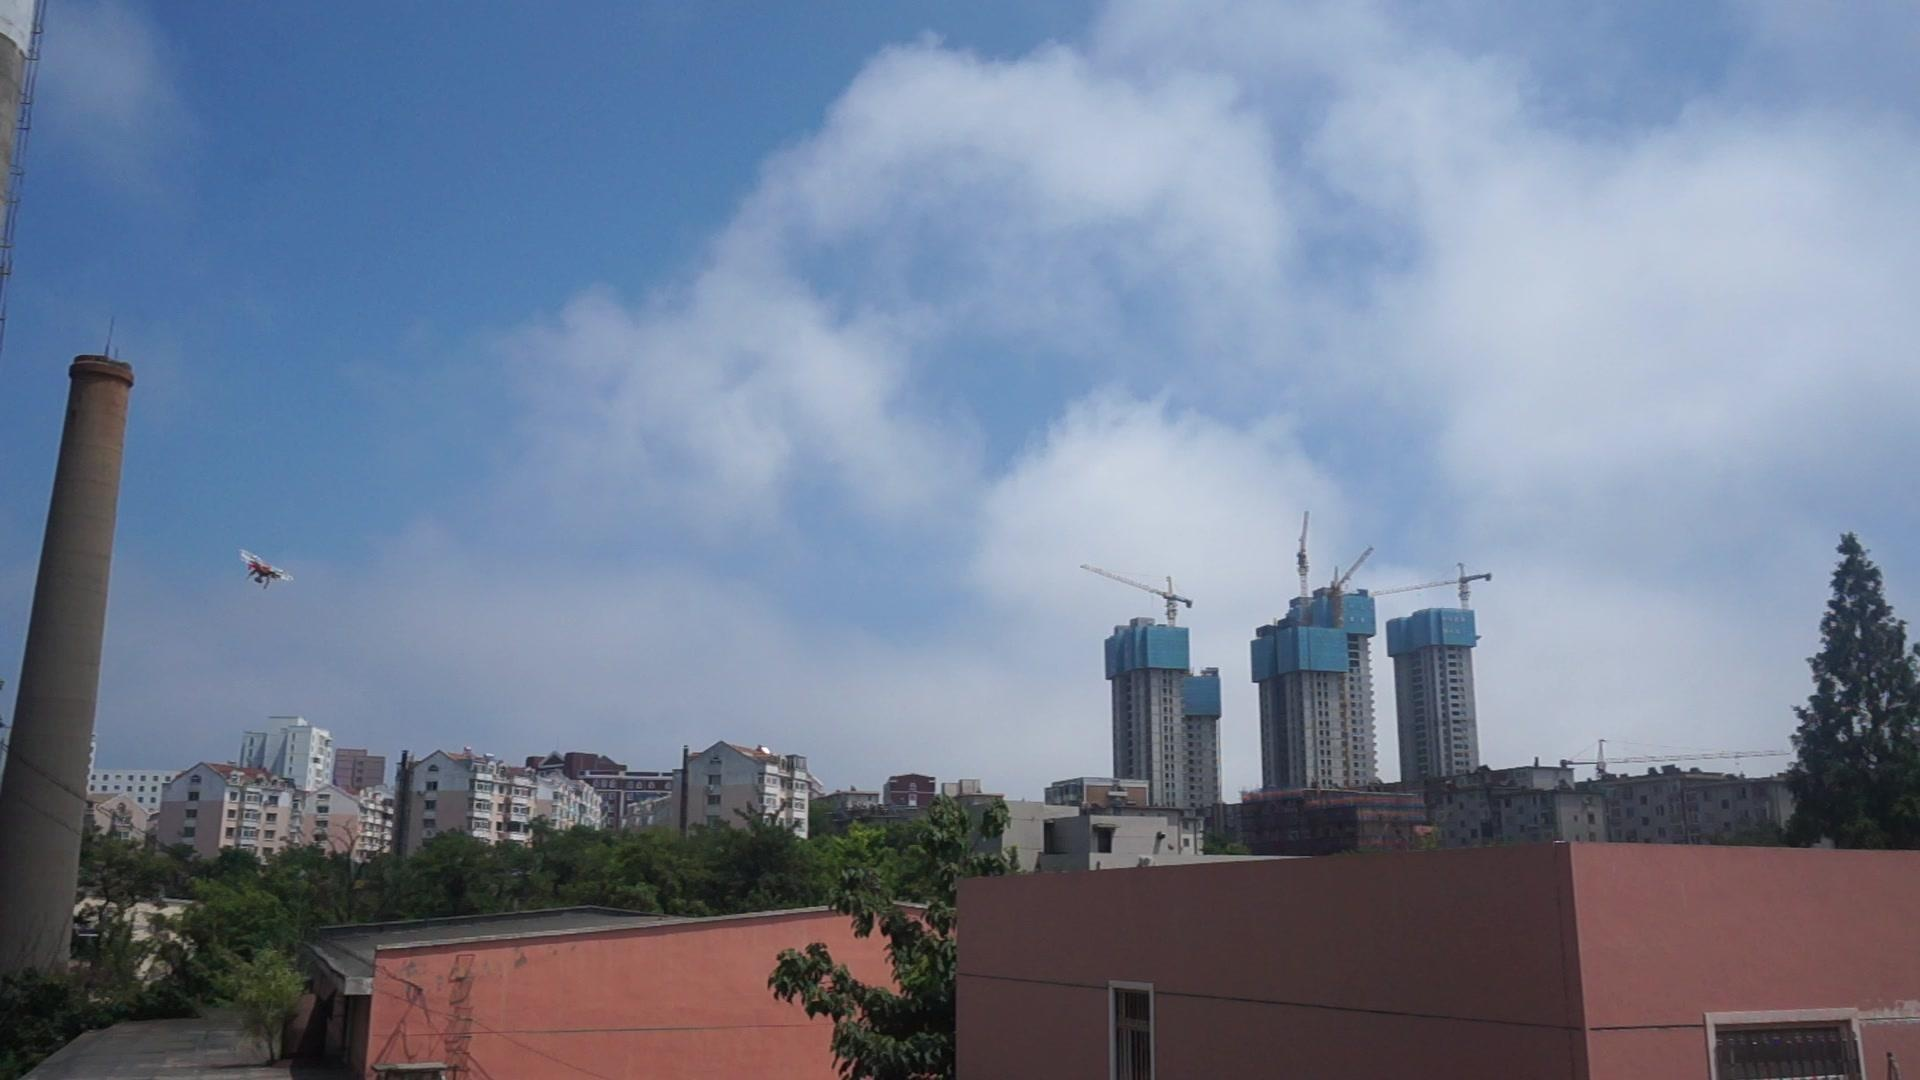UAV: (237, 550, 295, 589)
